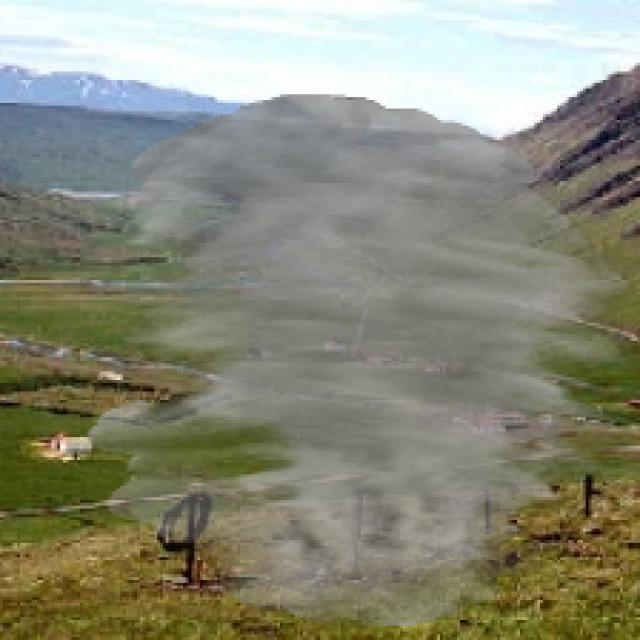smoke: (86, 94, 637, 632)
